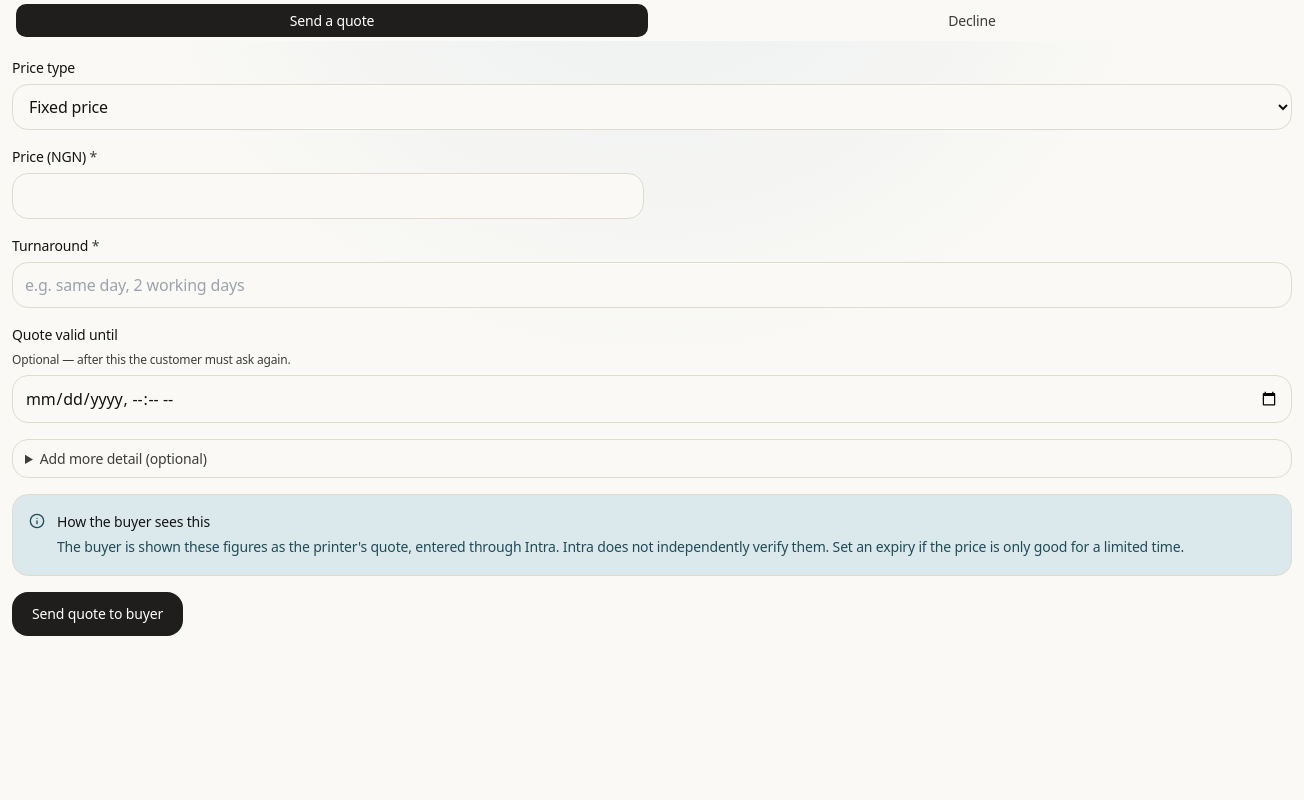
Test case: QuoteResponseForm — principal supplier flow (F-REC) › blocks an empty quote and names the missing fields
Step 1. Click the button "Send quote to buyer" → (98, 614), box [12,592,183,636]
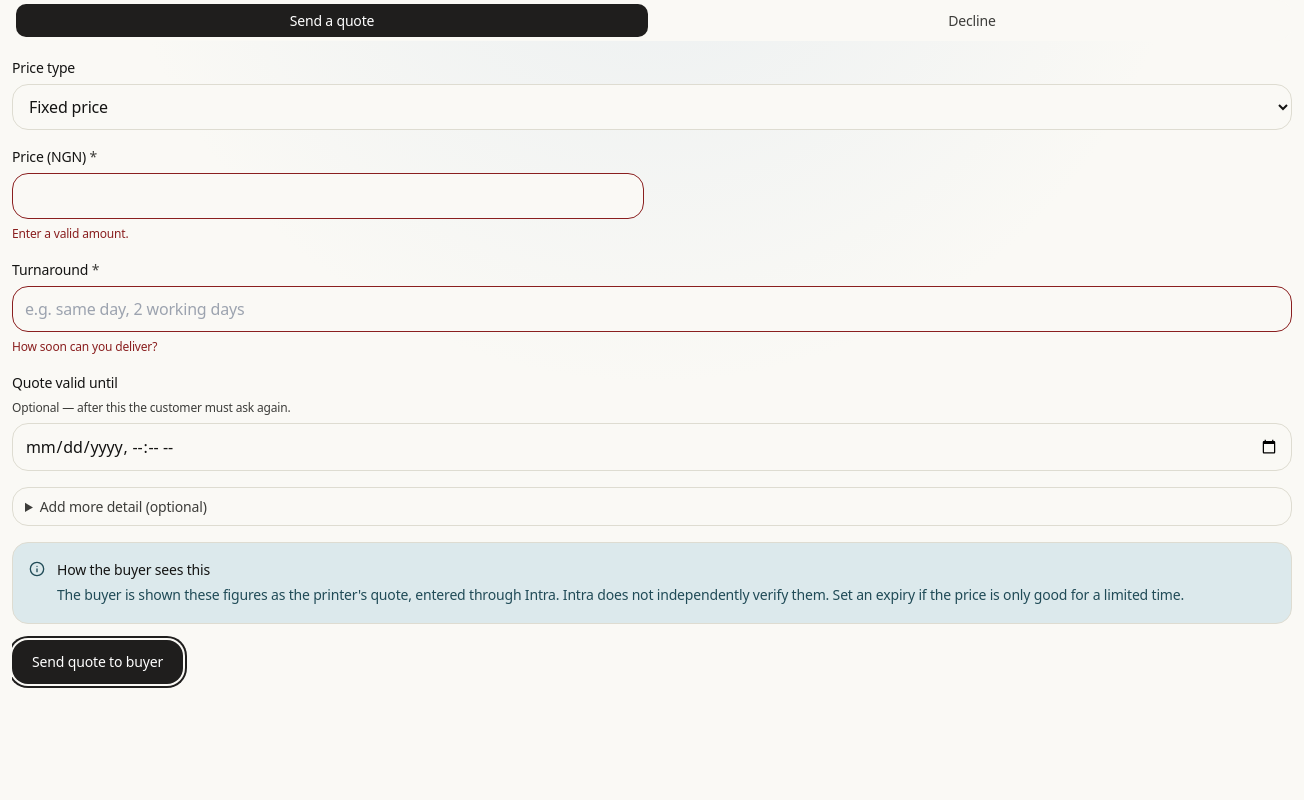
Result: the text "Enter a valid amount." is shown at [12,225,128,242]
Result: the text "How soon can you deliver?" is shown at [12,338,157,355]
